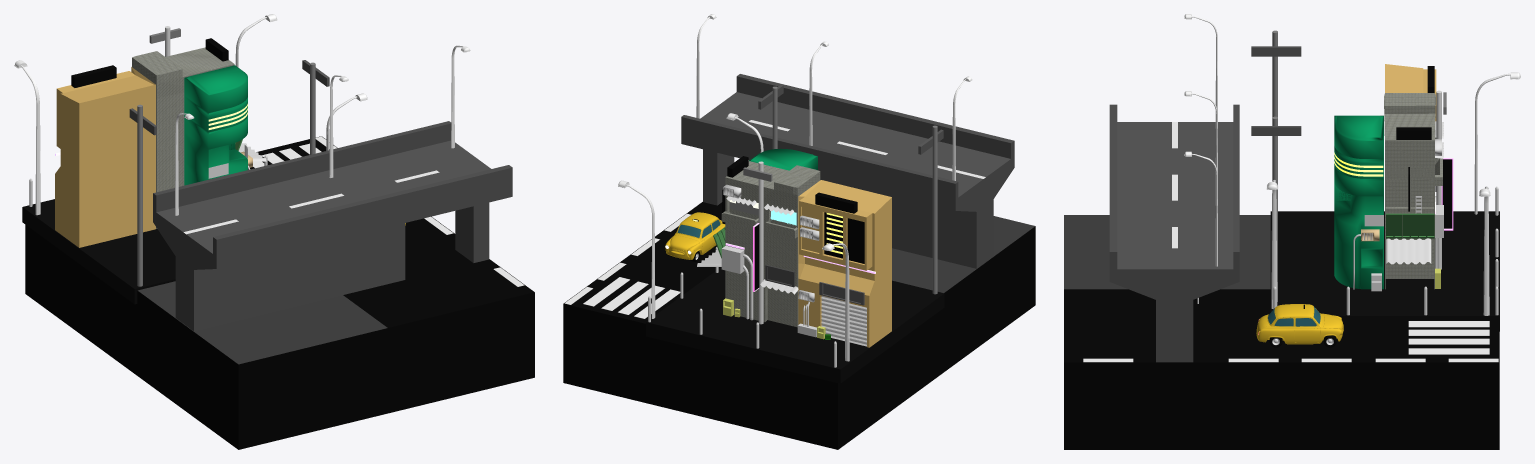
Rendered from miniature_night_city.glb.
3 renders of one model, left to right at view 1: azimuth 30°, elevation 25°; view 2: azimuth 150°, elevation 25°; view 3: azimuth 270°, elevation 25°, orthographic. The views are drawn at different scales.
Visible parts, largest first — view 1: Cube.006, Cube.004, Cube.002, Cube.059, Cube.003, Cube, Cube.001, Cylinder.073, OutherSide.003, Cube.038, Cylinder.055; view 2: Cube.006, Cube.004, Cube, Cube.002, Cube.001, Cube.059, taxi, Cube.056, Cube.003, Cylinder.073, Cylinder.030, Cube.042 (+7 smaller); view 3: Cube.006, Cube.004, Cube, Cube.003, Cube.001, Cube.059, taxi, Cube.002, Cube.007, OutherSide.002, OutherSide.001, Plane.010 (+11 smaller).
Boxes of the visible parts, left/top/right/bottom form: Cube.006: left=25, top=136, right=534, bottom=449; Cube.004: left=153, top=121, right=512, bottom=331; Cube.002: left=55, top=67, right=155, bottom=247; Cube.059: left=138, top=281, right=387, bottom=364; Cube.003: left=184, top=65, right=247, bottom=185; Cube: left=22, top=169, right=248, bottom=304; Cube.001: left=132, top=47, right=234, bottom=228; Cylinder.073: left=137, top=104, right=142, bottom=286; OutherSide.003: left=14, top=60, right=40, bottom=215; Cube.038: left=71, top=65, right=116, bottom=87; Cylinder.055: left=310, top=62, right=315, bottom=154; Cube.006: left=563, top=202, right=1035, bottom=449; Cube.004: left=681, top=74, right=1014, bottom=268; Cube: left=646, top=267, right=944, bottom=383; Cube.002: left=798, top=180, right=891, bottom=347; Cube.001: left=721, top=161, right=820, bottom=327; Cube.059: left=892, top=216, right=1035, bottom=292; taxi: left=665, top=212, right=725, bottom=259; Cube.056: left=821, top=295, right=866, bottom=346; Cube.003: left=749, top=148, right=817, bottom=170; Cylinder.073: left=932, top=125, right=937, bottom=294; Cylinder.030: left=758, top=161, right=763, bottom=324; Cube.042: left=847, top=218, right=864, bottom=263; Cube.006: left=1064, top=289, right=1499, bottom=449; Cube.004: left=1109, top=104, right=1239, bottom=362; Cube: left=1270, top=211, right=1499, bottom=331; Cube.003: left=1334, top=115, right=1383, bottom=289; Cube.001: left=1384, top=93, right=1442, bottom=289; Cube.059: left=1064, top=215, right=1270, bottom=289; taxi: left=1256, top=304, right=1343, bottom=344; Cube.002: left=1385, top=64, right=1436, bottom=121; Cube.007: left=1386, top=238, right=1431, bottom=264; OutherSide.002: left=1479, top=186, right=1490, bottom=315; OutherSide.001: left=1266, top=180, right=1278, bottom=308; Plane.010: left=1442, top=159, right=1452, bottom=228.
Bounding box in the file's own units: 9.36 × 8.53 × 12.02.
Materials: 55 (1 with a texture image).
